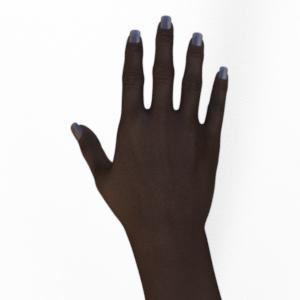paper: (71, 16, 227, 300)
